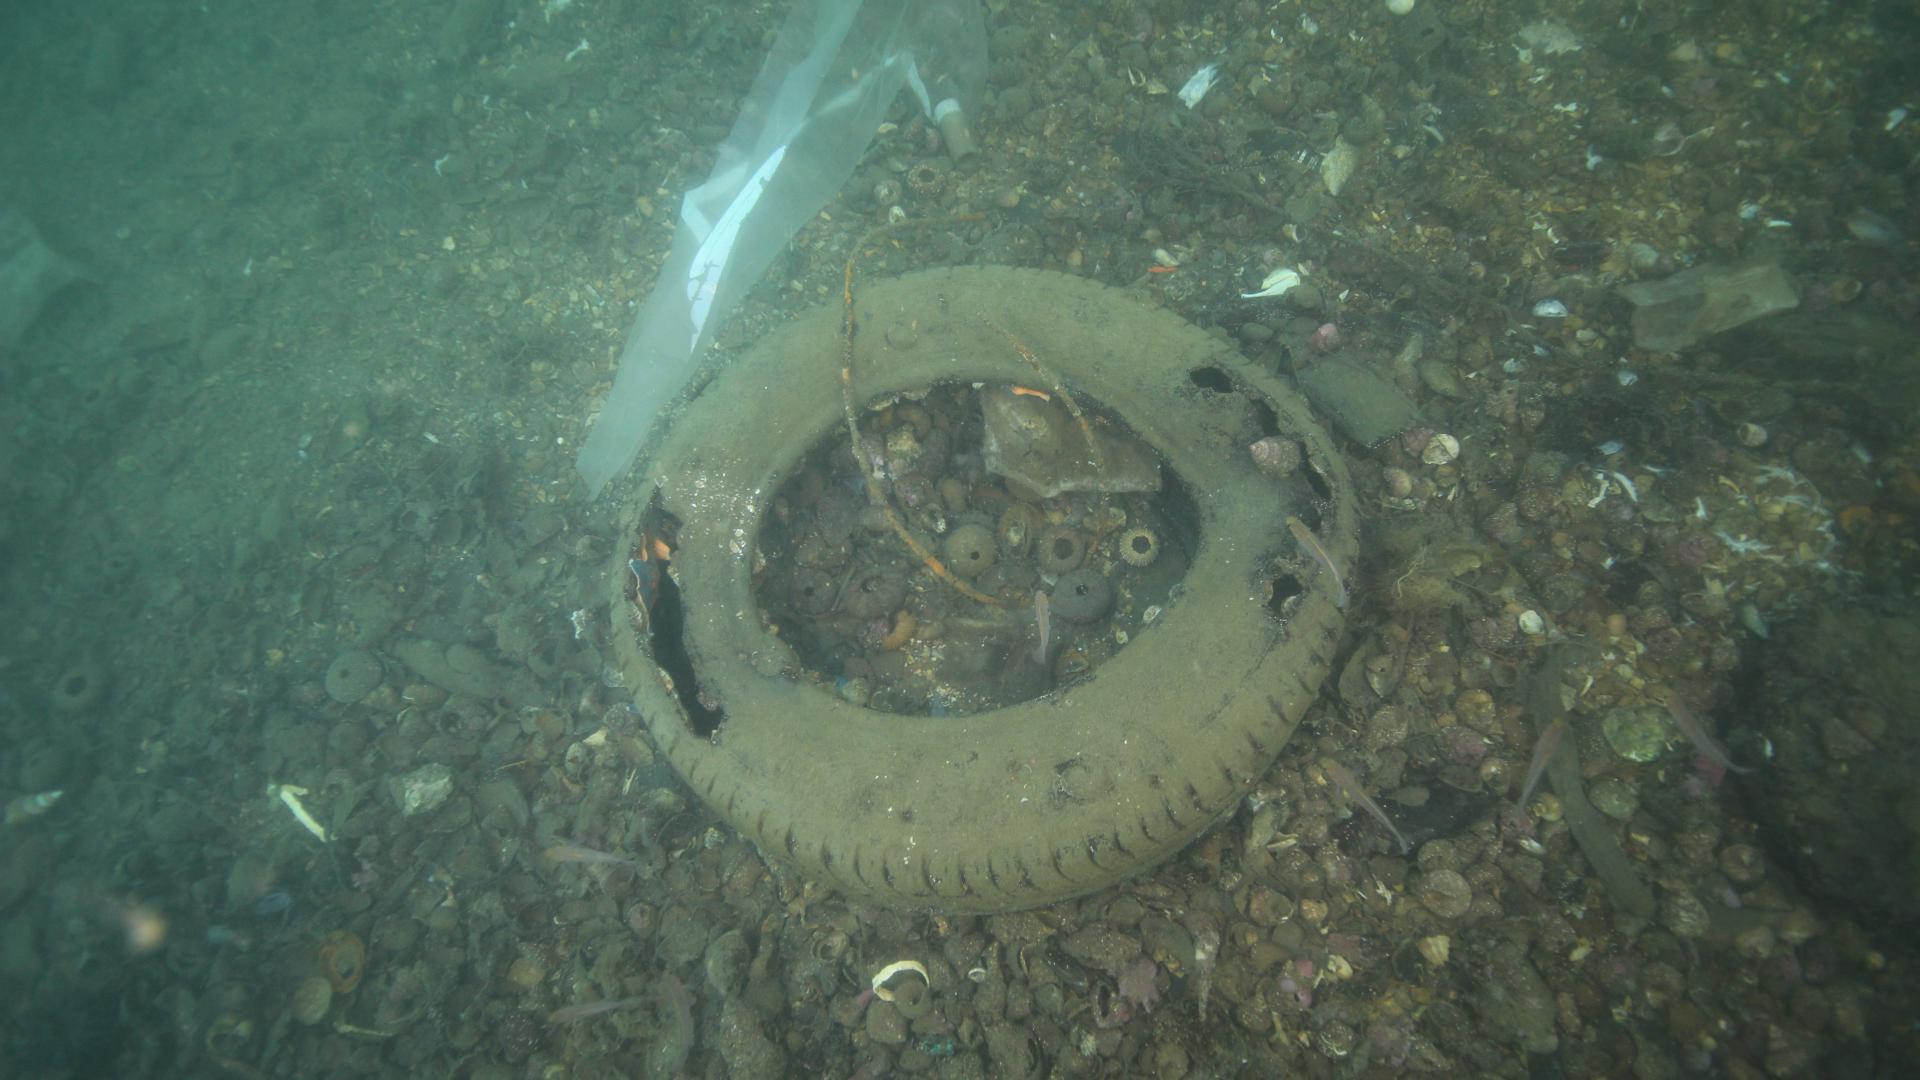tire: (615, 266, 1373, 915)
